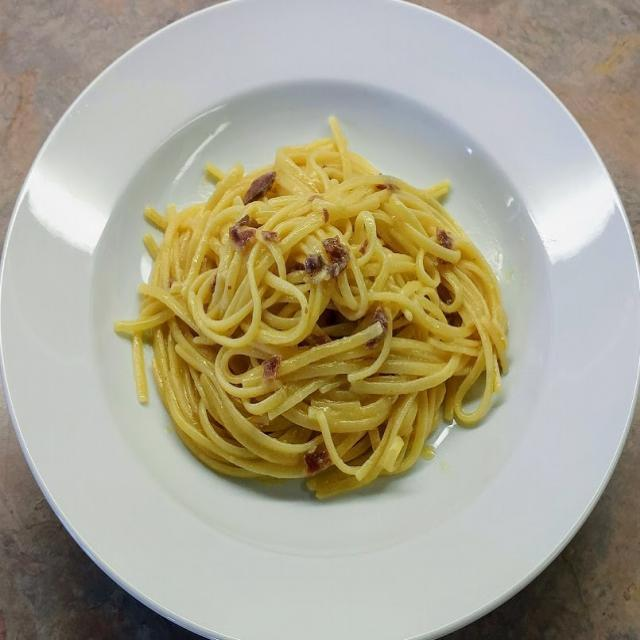Oil pasta: (100, 90, 548, 528)
